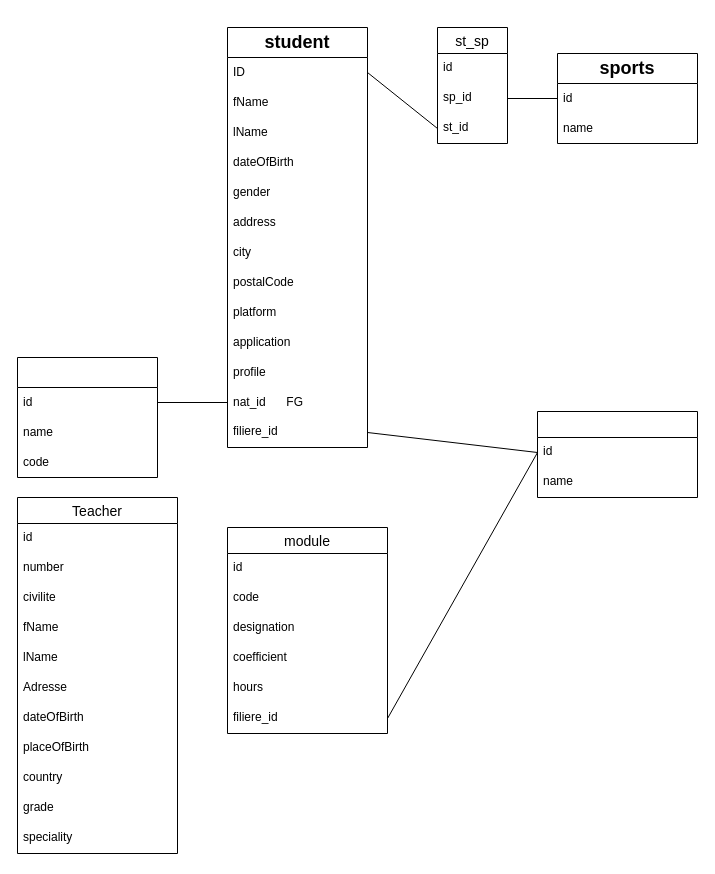
Some shapes in this 715 by 874 pixel diagram are drawn without their labels. The box of each missing label's shape, as (x1, y1, x2, y2) in pixels:
filiere: (536, 410, 698, 498)
nationality: (16, 356, 158, 478)
